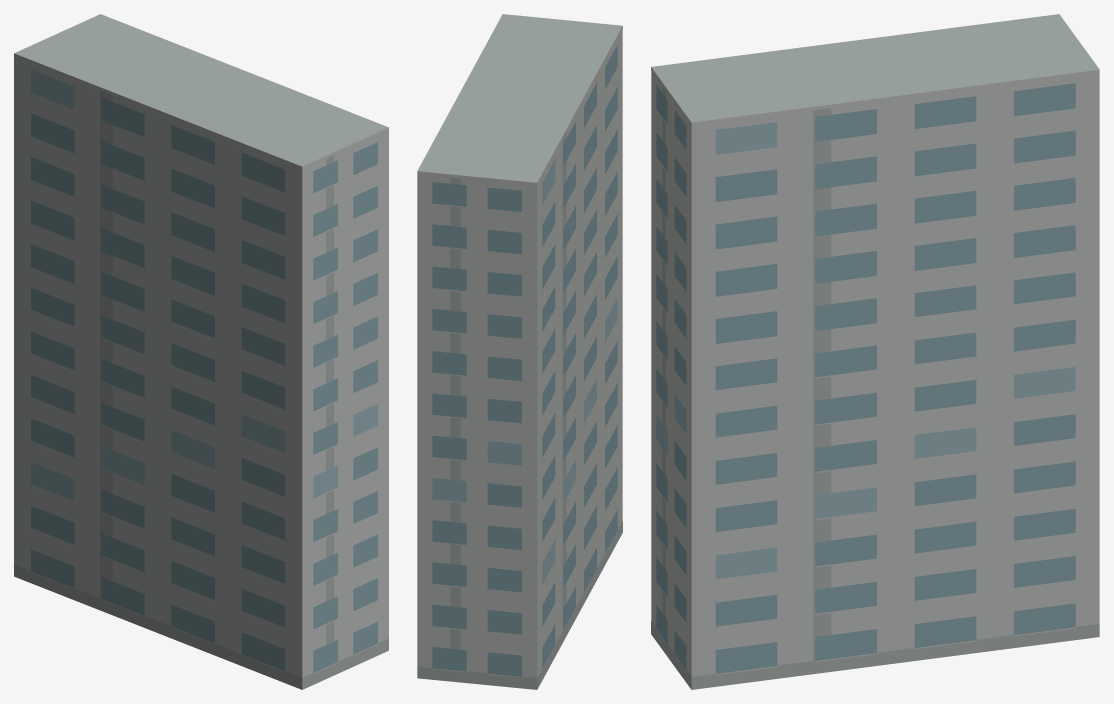
Rendered from residential-f0881440-569d-4ac6-a6b0-85719d643d69.glb.
3 renders of one model, left to right at view 1: azimuth 30°, elevation 25°; view 2: azimuth 150°, elevation 25°; view 3: azimuth 270°, elevation 25°, orthographic. The views are drawn at different scales.
Visible parts, largest first — view 1: residential-f0881440-569d-4ac6-a6b0-85719d643d69.tmp; view 2: residential-f0881440-569d-4ac6-a6b0-85719d643d69.tmp; view 3: residential-f0881440-569d-4ac6-a6b0-85719d643d69.tmp.
Part boxes in pixels (x1=…): residential-f0881440-569d-4ac6-a6b0-85719d643d69.tmp: x1=14, y1=14, x2=388, y2=689; residential-f0881440-569d-4ac6-a6b0-85719d643d69.tmp: x1=417, y1=14, x2=622, y2=689; residential-f0881440-569d-4ac6-a6b0-85719d643d69.tmp: x1=651, y1=14, x2=1099, y2=689.
Size of the model in its own units: 16.43 by 40 by 28.68.
